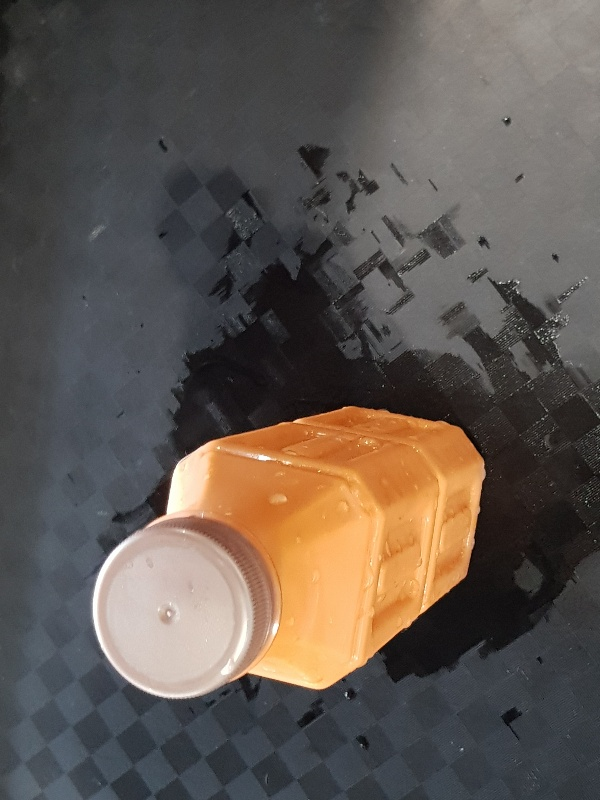Thai Milk Tea: (89, 405, 486, 701)
